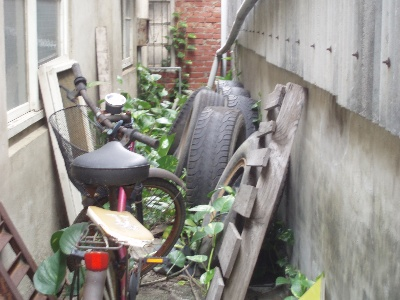tire: (187, 106, 246, 205)
